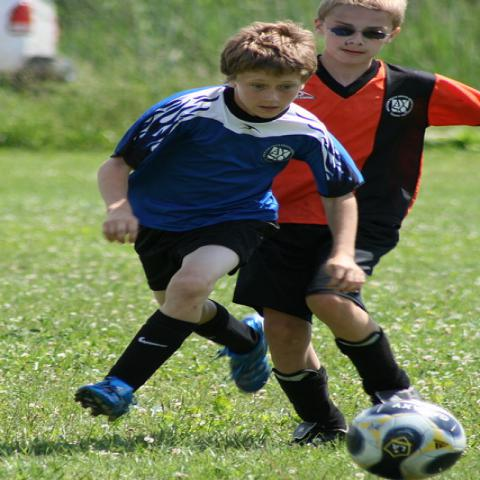truck: (0, 1, 61, 79)
